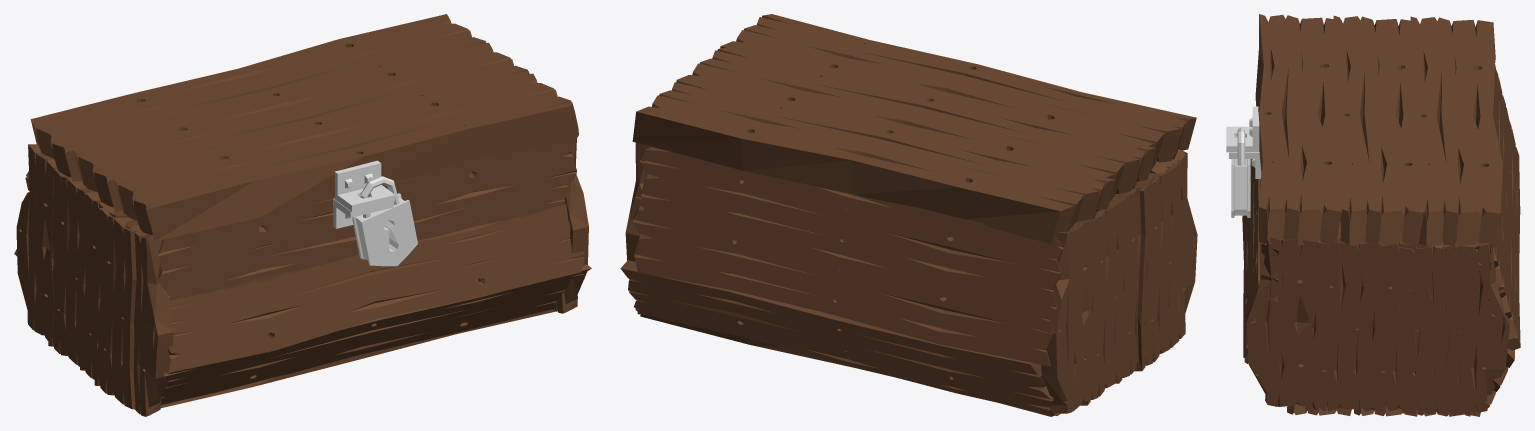
3 renders of one model, left to right at view 1: azimuth 30°, elevation 25°; view 2: azimuth 150°, elevation 25°; view 3: azimuth 270°, elevation 25°, orthographic. The views are drawn at different scales.
Parts seen in each view (by area): view 1: Brett_3, Brett_1, Brett, Brett_5, Brett_4, Brett_2, Brett_13, Brett_10, Brett_14, Brett_11, Schlüsselloch, Brett_12 (+4 smaller); view 2: Brett_5, Brett_7, Brett_6, Brett_4, Brett_3, Brett_8, Brett_14, Brett_13, Brett_11, Brett_12, Brett_10, Brett_9 (+1 smaller); view 3: Brett_3, Brett_5, Brett_4, Brett_18, Brett_17, Brett_15, Brett_16, Brett_9, Brett_7, Brett_1, Brett_6, Schlüsselloch (+7 smaller).
Boxes of the visible parts, x1,y1,x2,y2 form: Brett_3: [113, 73, 578, 241]; Brett_1: [161, 204, 584, 372]; Brett: [154, 138, 576, 300]; Brett_5: [30, 14, 486, 181]; Brett_4: [74, 42, 529, 213]; Brett_2: [161, 264, 591, 404]; Brett_13: [93, 207, 147, 409]; Brett_10: [125, 219, 173, 416]; Brett_14: [16, 144, 56, 344]; Brett_11: [47, 168, 95, 369]; Schlüsselloch: [352, 193, 417, 266]; Brett_12: [79, 192, 132, 379]; Brett_5: [632, 79, 1115, 243]; Brett_7: [632, 196, 1056, 366]; Brett_6: [640, 146, 1063, 305]; Brett_4: [676, 47, 1155, 201]; Brett_3: [720, 14, 1196, 170]; Brett_8: [620, 260, 1060, 415]; Brett_14: [1040, 219, 1093, 413]; Brett_13: [1134, 163, 1179, 371]; Brett_11: [1080, 197, 1124, 405]; Brett_12: [1114, 175, 1154, 383]; Brett_10: [1149, 149, 1197, 338]; Brett_9: [625, 142, 651, 314]; Brett_3: [1255, 14, 1345, 245]; Brett_5: [1410, 16, 1502, 247]; Brett_4: [1333, 15, 1425, 247]; Brett_18: [1396, 240, 1470, 416]; Brett_17: [1246, 237, 1316, 407]; Brett_15: [1304, 238, 1375, 411]; Brett_16: [1362, 239, 1433, 411]; Brett_9: [1442, 240, 1509, 412]; Brett_7: [1488, 107, 1520, 350]; Brett_1: [1242, 159, 1261, 357]; Brett_6: [1474, 64, 1506, 295]; Schlüsselloch: [1231, 159, 1250, 217].
Size of the model in its own units: 186 by 88.72 by 116.
